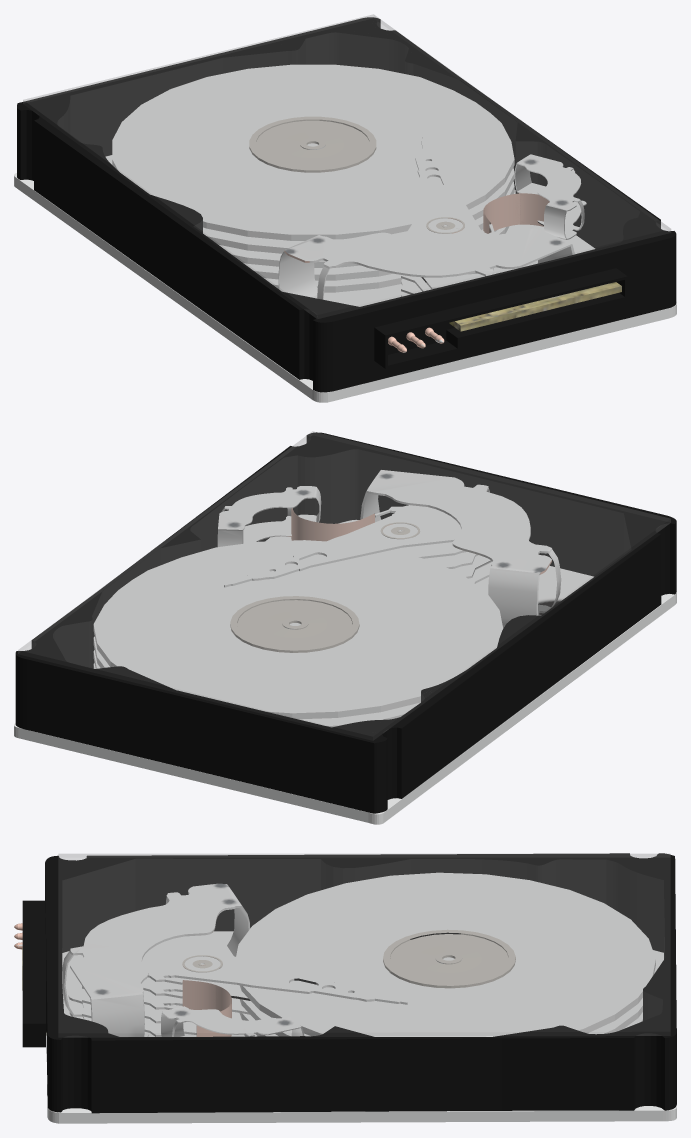
3 views of the same model, one above another, from view 1: azimuth 30°, elevation 25°; view 2: azimuth 150°, elevation 25°; view 3: azimuth 270°, elevation 25° (orthographic). The views are drawn at different scales.
Visible parts, largest first — view 1: yingpan, yingpangless; view 2: yingpan, yingpangless; view 3: yingpan, yingpangless.
Part boxes in pixels (box(x1,y1,x2,y2)): yingpan: box(14, 17, 676, 402); yingpangless: box(23, 14, 670, 318); yingpan: box(14, 432, 676, 824); yingpangless: box(18, 431, 670, 739); yingpan: box(14, 853, 676, 1123); yingpangless: box(58, 854, 670, 1037).
Bounding box in the file's own units: 189 × 41.55 × 282.
